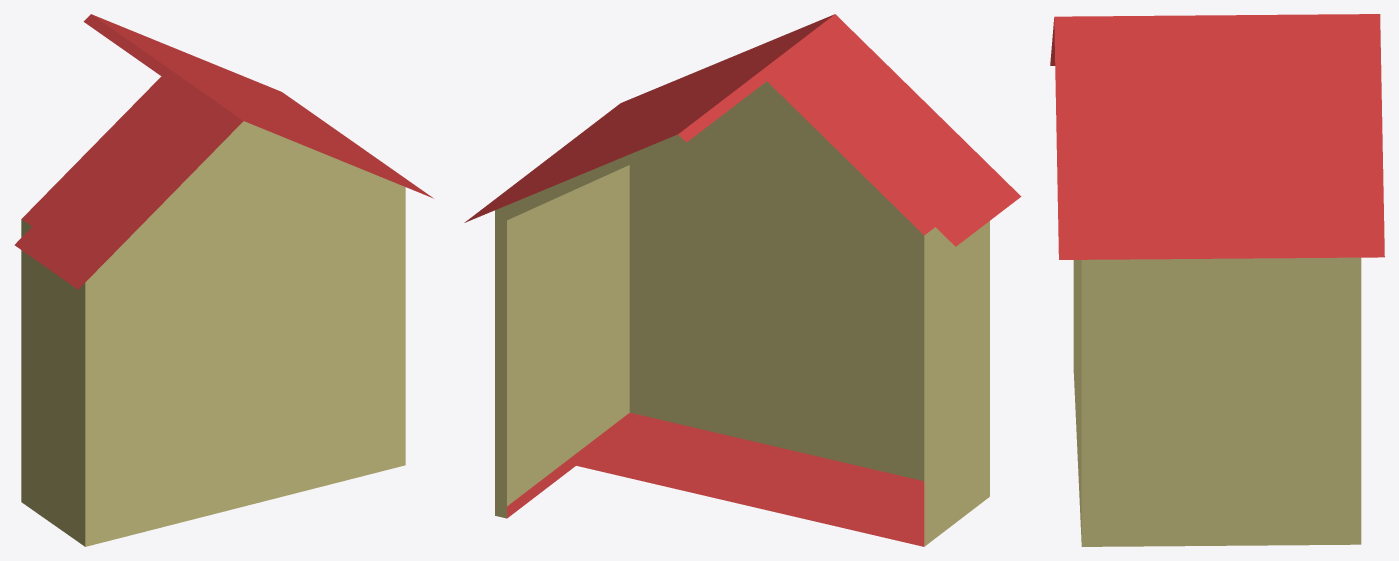
The picture shows the model from 3 angles, left to right: view 1: azimuth 30°, elevation 25°; view 2: azimuth 150°, elevation 25°; view 3: azimuth 270°, elevation 25°; orthographic projection. The views are drawn at different scales.
Size of the model in its own units: 9.94 by 7.21 by 10.37.
